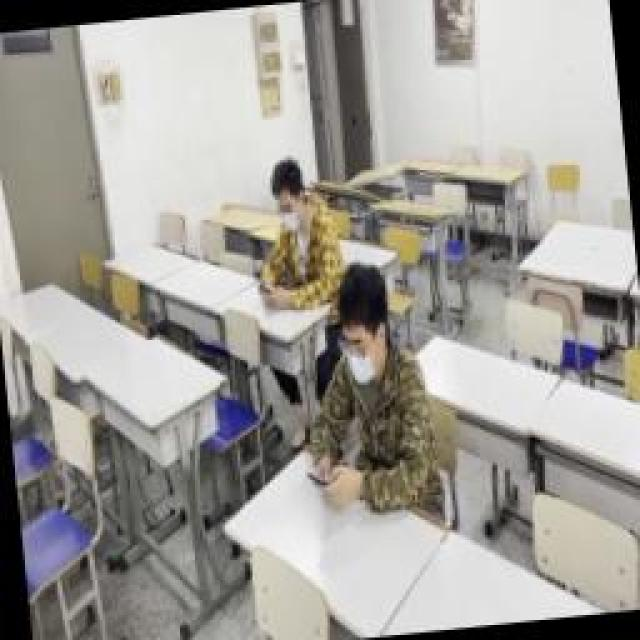phone: (295, 300, 440, 510), (245, 158, 333, 308)
